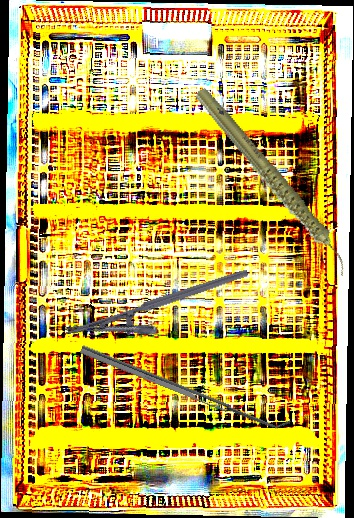Handpiece: (192, 64, 351, 300)
Needle Holder: (64, 268, 257, 361)
Spatula Surgical: (79, 337, 292, 436)
